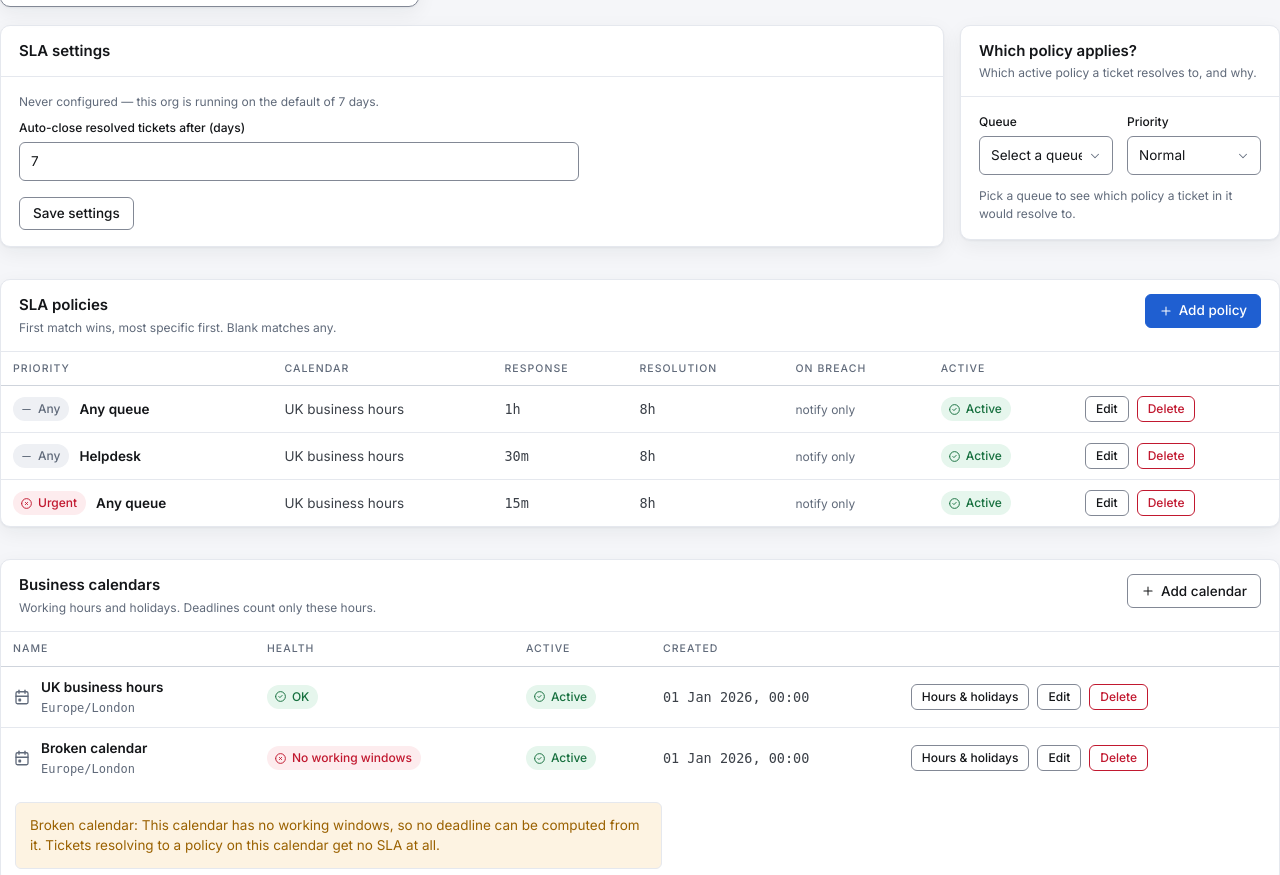
Test: the weekly working-window editor › refuses to submit an inverted window and says why
The image size is (1280, 875).
(page scrolled)
Click the 1st button "Hours & holidays".
click(970, 697)  # box x1=911 y1=684 x2=1030 y2=710
(page scrolled)
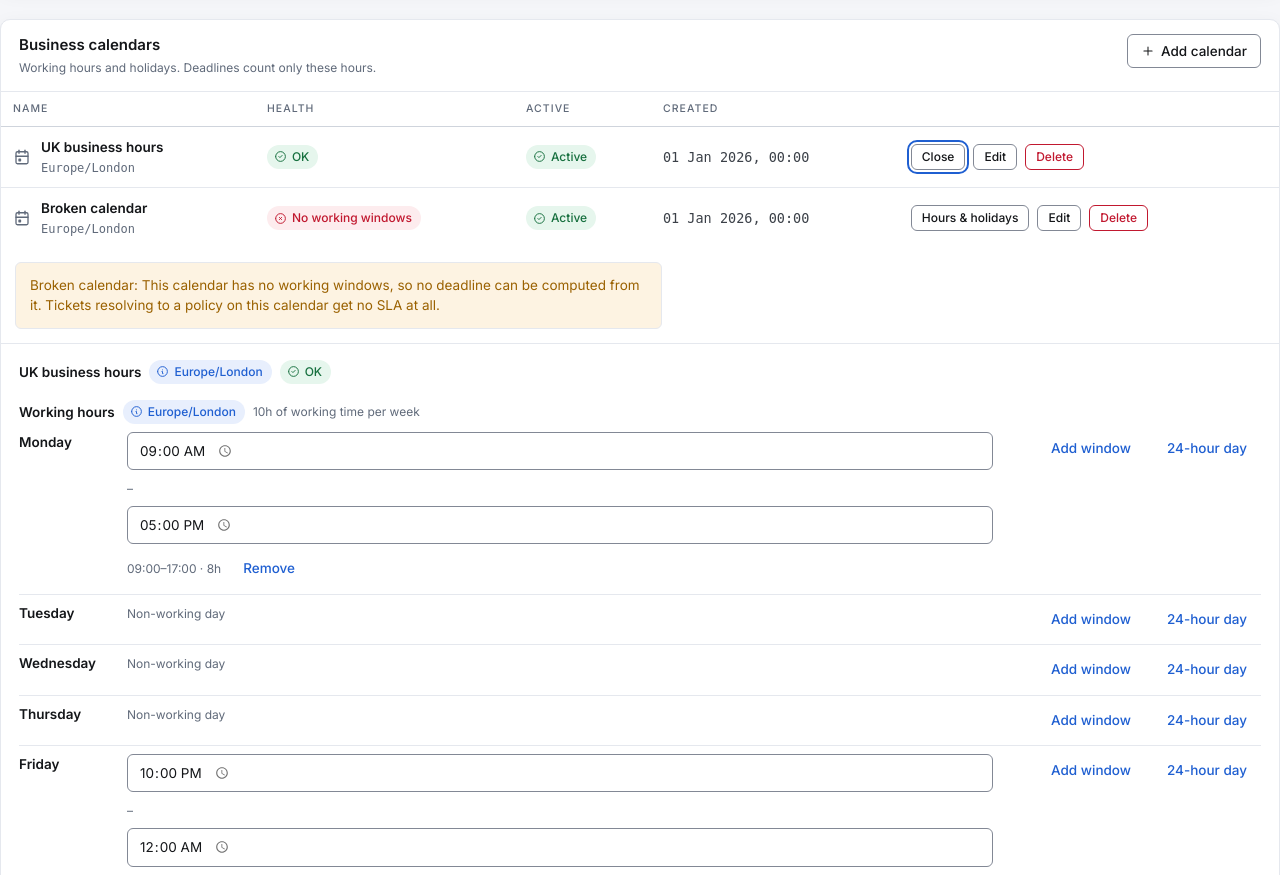
Check: the heading "Working hours" is shown, box x1=19 y1=402 x2=115 y2=422
Replace the text in the time field named "Monday window 1 start" with "18:00" at (560, 451), box x1=127 y1=432 x2=993 y2=470
(page scrolled)
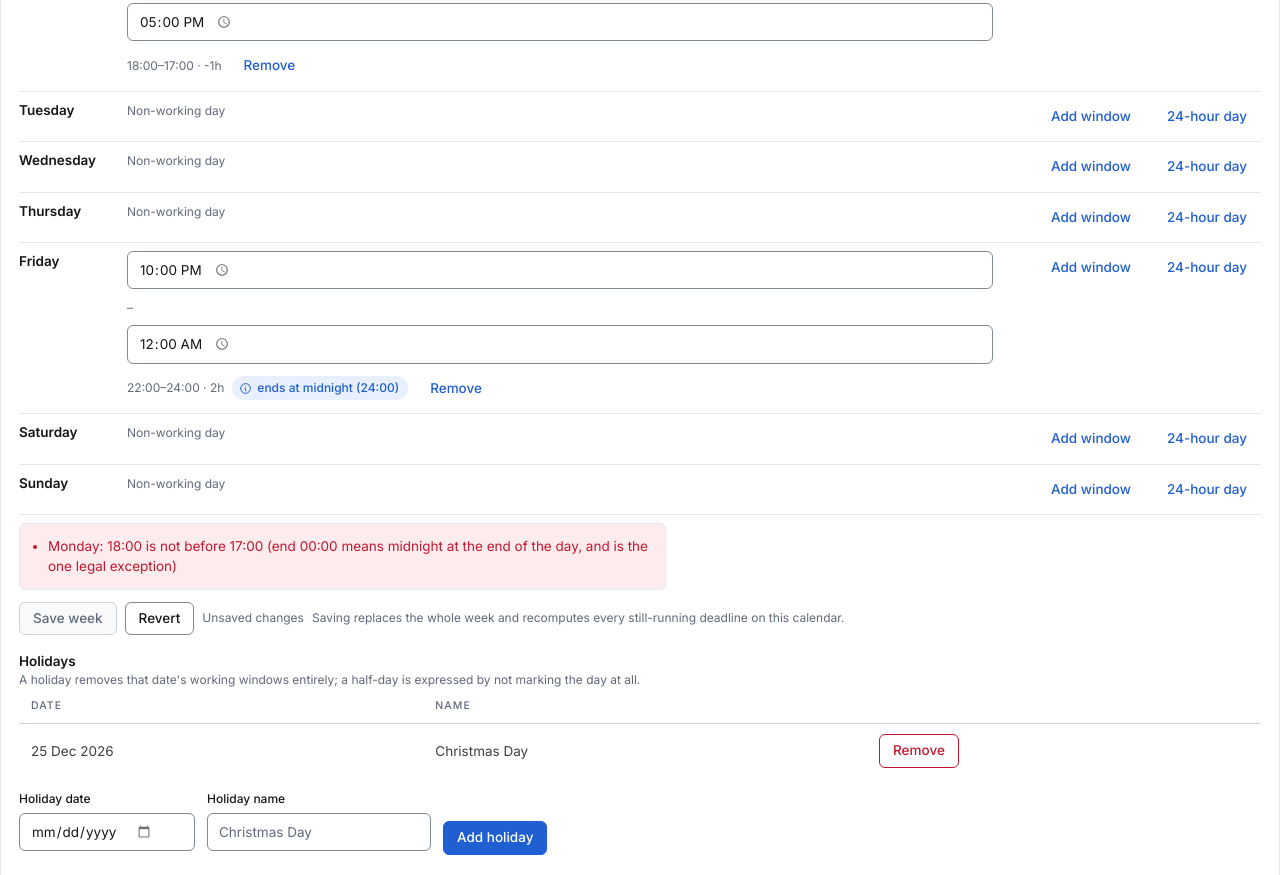
Check: the button "Save week" is disabled, box x1=19 y1=602 x2=117 y2=635
Check: the list item "end 00:00 means midnight at the end of the day" is shown, box x1=48 y1=538 x2=648 y2=574
